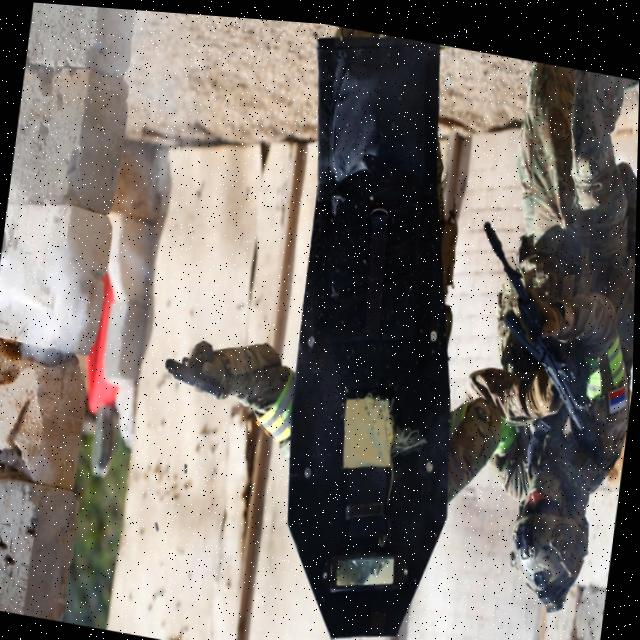firearm: (460, 211, 612, 424)
pistol: (161, 348, 230, 396)
